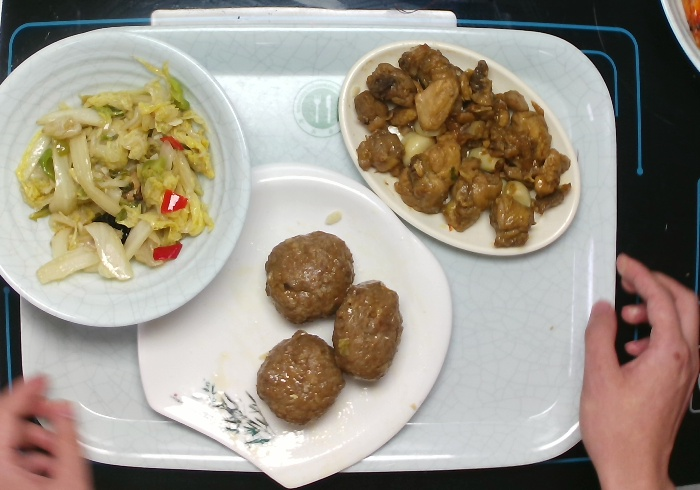JYsf-Mian_Pan: (129, 168, 460, 490)
JYsf-Tuo_Yuan_Wan: (335, 39, 587, 264)
JYsf-Xiao_Tang_Wan: (1, 28, 255, 334)
